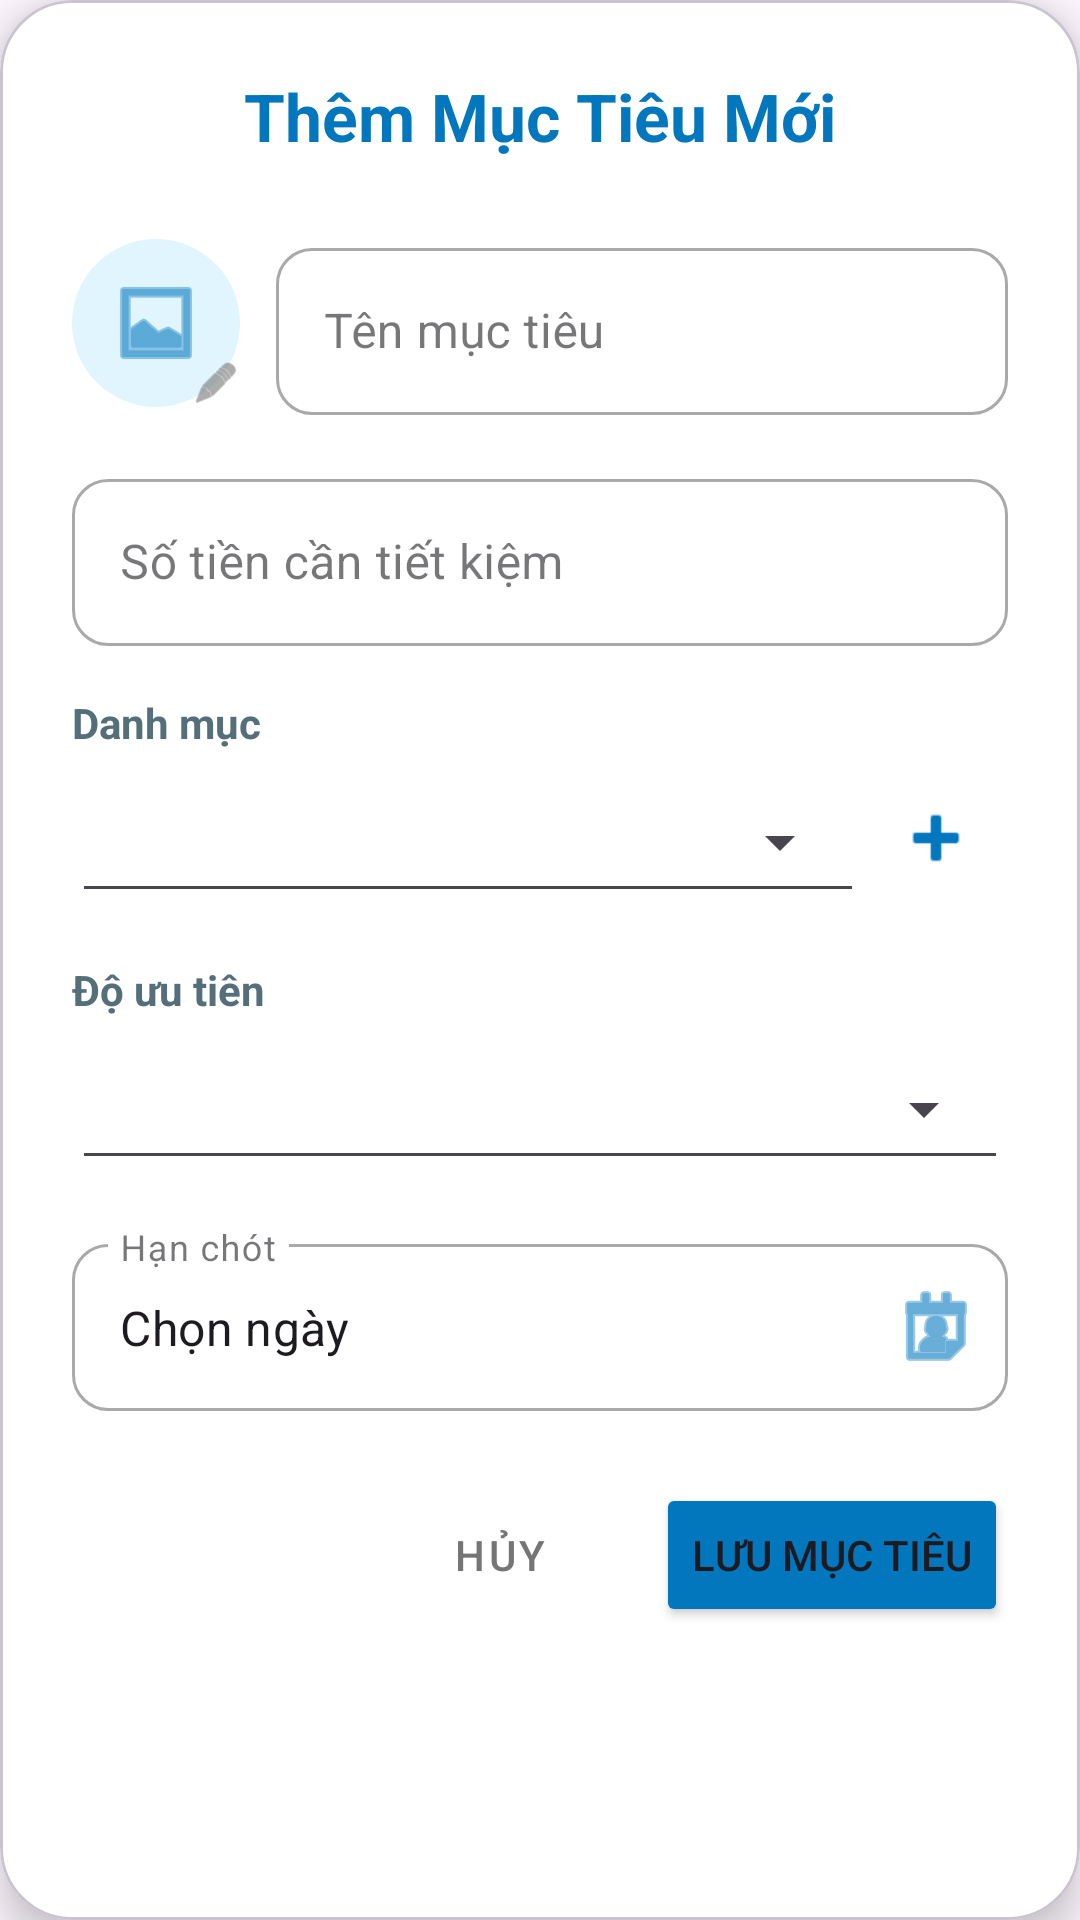

Named icons in this screenshot (1080x1920) and their centers, [x,y]:
add: [936,838]
